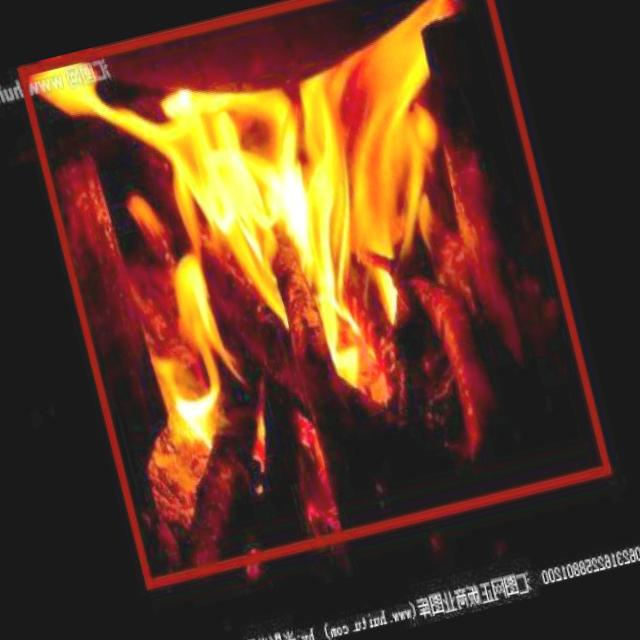fire: (18, 0, 611, 586)
